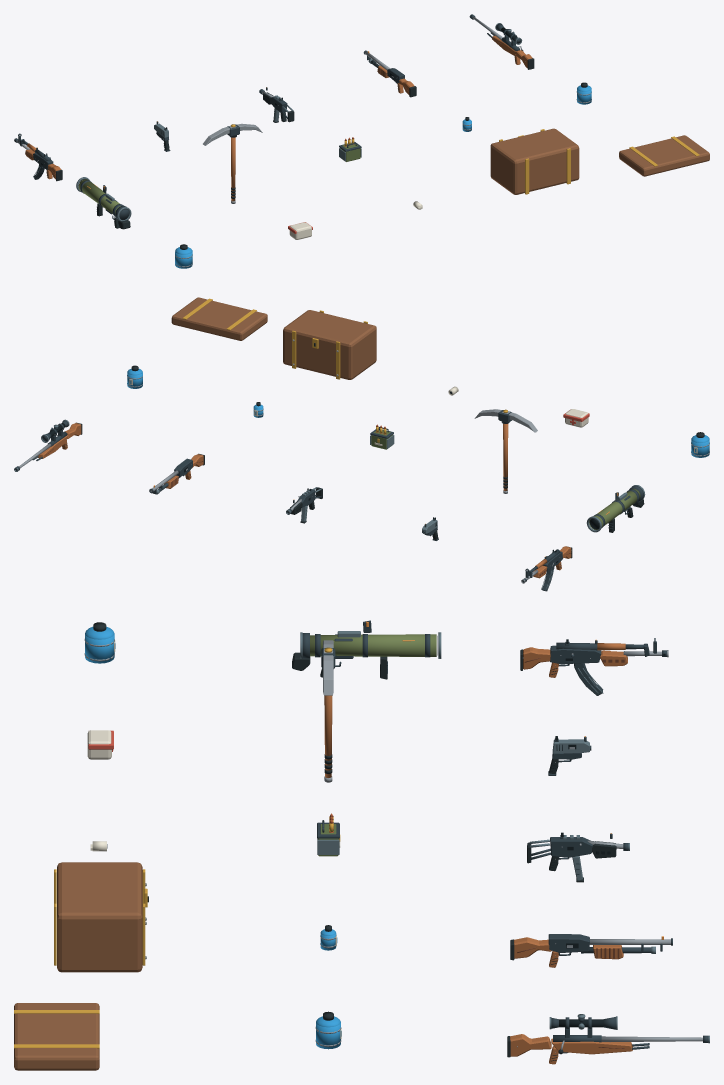
The model's file is items.glb.
3 views of the same model, one above another, from view 1: azimuth 30°, elevation 25°; view 2: azimuth 150°, elevation 25°; view 3: azimuth 270°, elevation 25° (orthographic). The views are drawn at different scales.
Visible parts, largest first — view 1: ChestBase_0.001, ChestLid_0.001, WpnRocket_0.001; view 2: ChestBase_0.001, ChestLid_0.001, WpnRocket_0.001; view 3: ChestBase_0.001, ChestLid_0.001, WpnRocket_0.001, WpnSniper_2.001, WpnSmg_0.001, WpnAr_0.001, WpnShotgun_0.001.
Part boxes in pixels (x1,y1,x2,y2): ChestBase_0.001: (490,128,579,194); ChestLid_0.001: (619,135,709,176); WpnRocket_0.001: (78,179,120,214); ChestBase_0.001: (283,310,376,379); ChestLid_0.001: (171,297,267,340); WpnRocket_0.001: (589,488,640,529); ChestBase_0.001: (57,862,142,972); ChestLid_0.001: (14,1003,99,1070); WpnRocket_0.001: (310,634,436,656); WpnSniper_2.001: (551,1038,632,1054); WpnSmg_0.001: (550,837,592,857); WpnAr_0.001: (550,645,601,664); WpnShotgun_0.001: (548,934,589,952).
Size of the model in its own units: 6.97 by 1.1 by 4.87.
